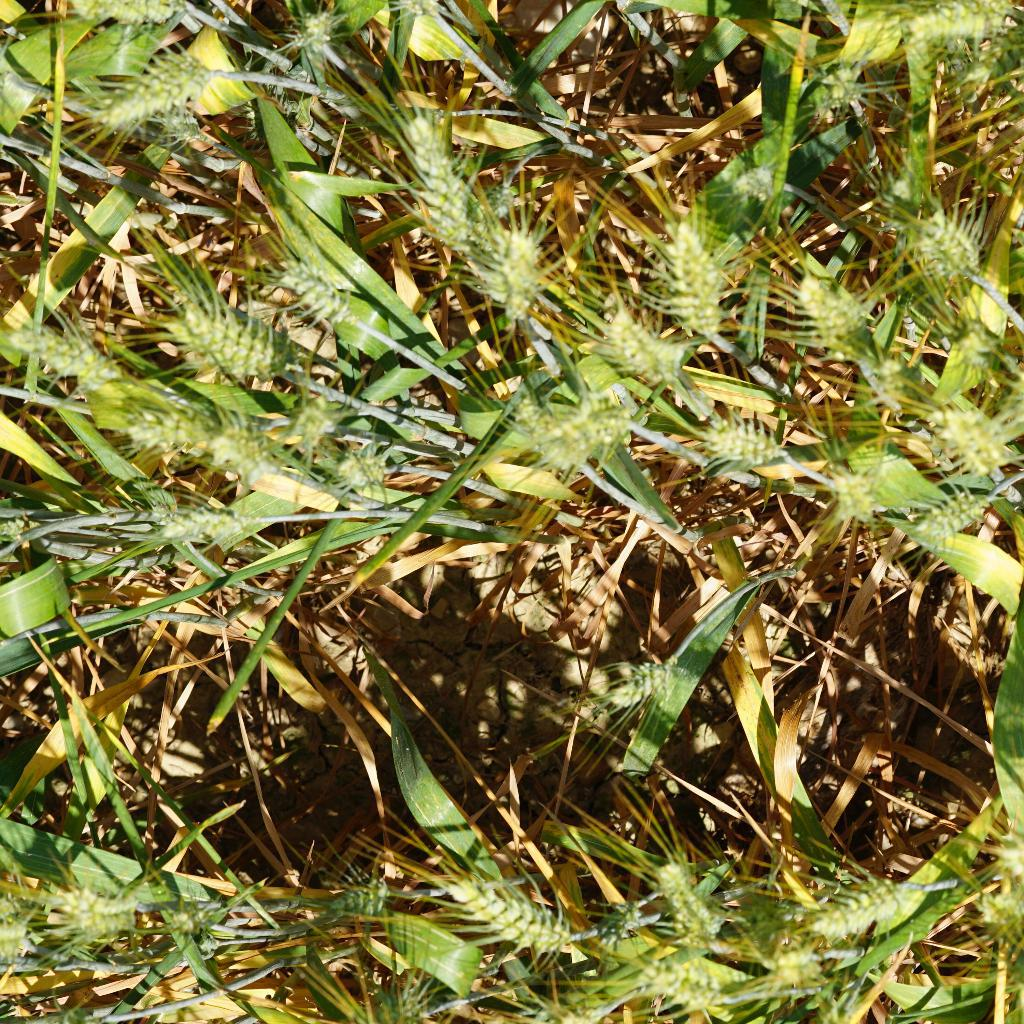0-0: (433, 860, 590, 960), (164, 295, 316, 388), (402, 105, 482, 272), (86, 41, 224, 129), (774, 859, 919, 941), (778, 256, 882, 369), (494, 378, 600, 488), (520, 389, 638, 486), (654, 212, 735, 346), (122, 403, 283, 467), (6, 311, 141, 382), (589, 290, 681, 393), (260, 245, 366, 332), (900, 201, 996, 295), (638, 851, 728, 950), (926, 393, 1024, 478), (48, 875, 137, 960), (631, 952, 736, 1024), (479, 221, 549, 328), (150, 489, 256, 559), (901, 475, 993, 555), (232, 62, 311, 154), (942, 8, 1024, 94), (584, 650, 683, 720), (735, 945, 838, 1012), (884, 0, 1016, 49), (695, 408, 788, 477), (804, 458, 894, 529), (322, 860, 400, 930), (324, 441, 407, 504), (862, 162, 926, 240), (64, 0, 186, 37), (872, 354, 934, 422), (940, 311, 1008, 371), (133, 485, 194, 550), (961, 879, 1024, 941), (276, 395, 345, 450), (586, 897, 646, 958), (806, 58, 867, 115), (0, 883, 45, 959), (154, 925, 224, 973), (287, 0, 340, 60), (720, 161, 781, 207), (147, 104, 205, 148), (160, 894, 207, 941), (1000, 365, 1024, 441), (481, 176, 518, 219)
